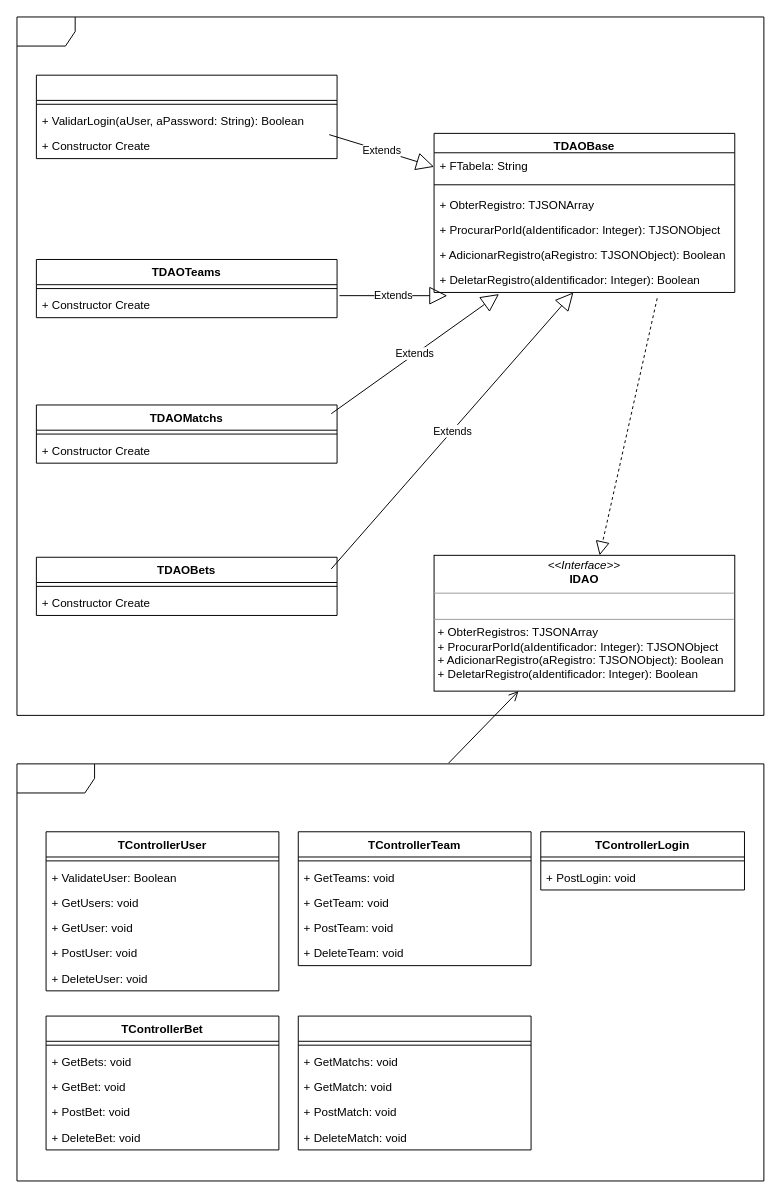
Some shapes in this 781 by 1198 pixel diagram are drawn without their labels. The box of each missing label's shape, as (x1, y1, x2, y2) in pixels:
Controller - layer: (16, 763, 764, 1181)
dao - layer: (16, 16, 764, 715)
TControllerMatch: (297, 1015, 531, 1150)
TDAOUser: (35, 74, 337, 159)
